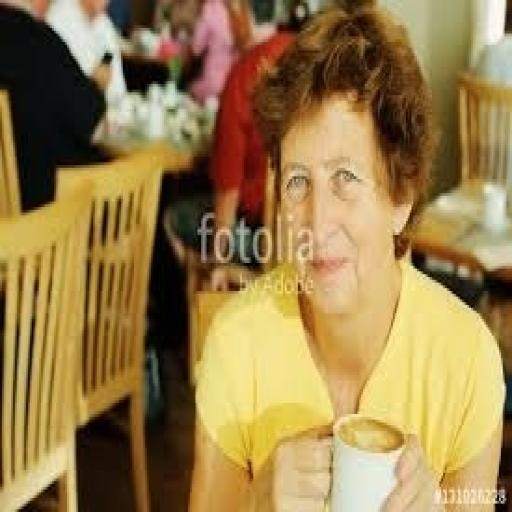drinking: (326, 414, 408, 509)
